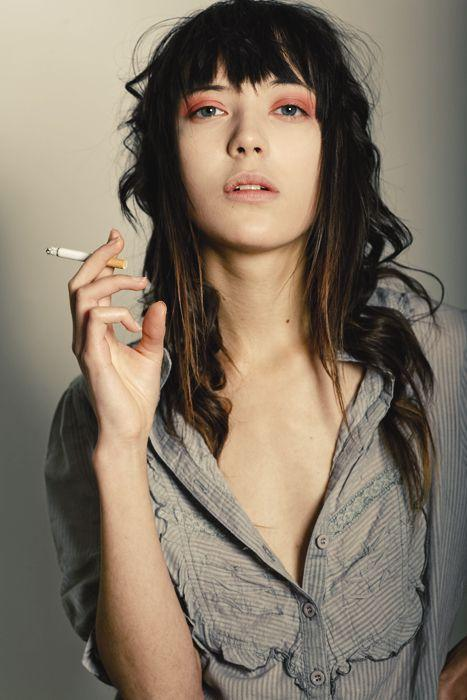cigarette: (46, 247, 127, 269)
